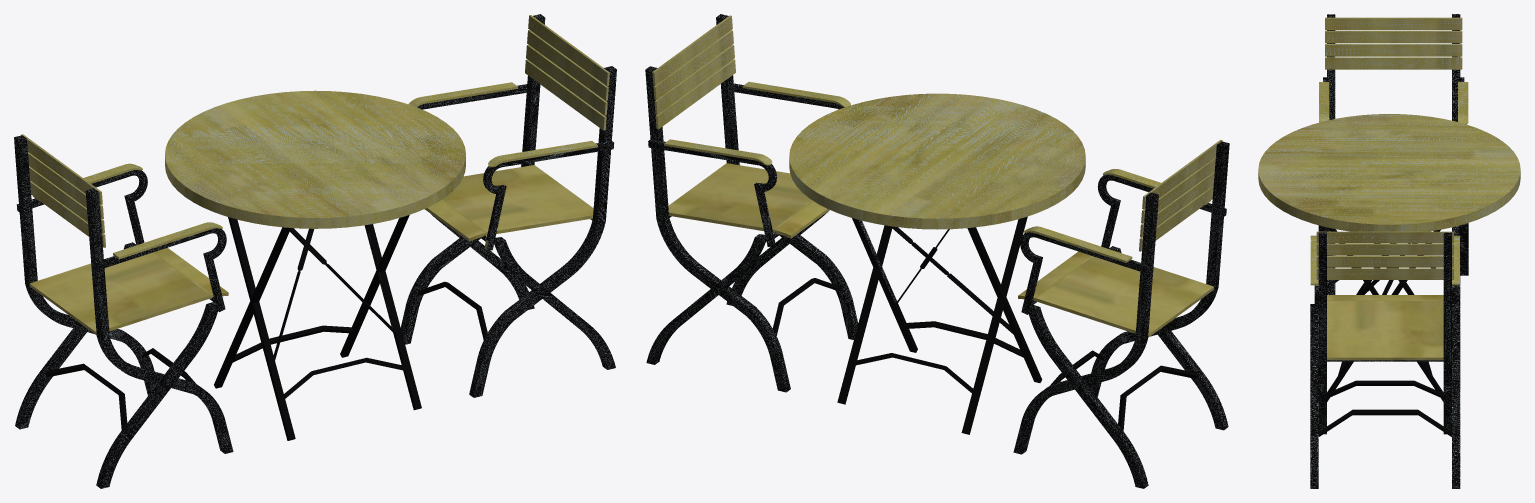
File: CafeSeating.dae
3 renders of one model, left to right at view 1: azimuth 30°, elevation 25°; view 2: azimuth 150°, elevation 25°; view 3: azimuth 270°, elevation 25°, orthographic. The views are drawn at different scales.
Visible parts, largest first — view 1: group_15, group_7 (×2), group_8 (×8), group_6 (×2), group_12 (×2), group_21, group_11 (×2), group_23, group_5 (×2), group_3 (×2), group_9 (×2), group_10 (×2) (+2 smaller); view 2: group_15, group_7 (×2), group_8 (×8), group_12 (×2), group_6 (×2), group_23, group_5 (×2), group_11 (×2), group_21, group_9 (×2), group_3 (×2), group_4 (×2) (+2 smaller); view 3: group_15, group_8 (×8), group_7, group_6 (×2), group_12 (×2), group_5 (×2), group_11, group_13, group_4 (×2), group_10 (×2), group_2, group_23 (+1 smaller).
Boxes of the visible parts, bbox=[...] form: group_15: bbox=[165, 90, 465, 228]; group_7 (×2): bbox=[29, 165, 593, 335]; group_8 (×8): bbox=[21, 15, 609, 247]; group_6 (×2): bbox=[14, 66, 616, 397]; group_12 (×2): bbox=[85, 14, 545, 453]; group_21: bbox=[228, 217, 421, 440]; group_11 (×2): bbox=[96, 214, 534, 488]; group_23: bbox=[214, 215, 409, 388]; group_5 (×2): bbox=[15, 237, 615, 429]; group_3 (×2): bbox=[16, 141, 614, 250]; group_9 (×2): bbox=[95, 84, 527, 311]; group_10 (×2): bbox=[113, 82, 517, 259]; group_15: bbox=[789, 93, 1085, 229]; group_7 (×2): bbox=[668, 163, 1214, 337]; group_8 (×8): bbox=[652, 15, 1222, 251]; group_12 (×2): bbox=[645, 66, 1229, 396]; group_6 (×2): bbox=[716, 14, 1158, 454]; group_23: bbox=[837, 216, 1027, 434]; group_5 (×2): bbox=[726, 211, 1148, 488]; group_11 (×2): bbox=[646, 234, 1228, 430]; group_21: bbox=[852, 218, 1042, 382]; group_9 (×2): bbox=[648, 139, 1226, 248]; group_3 (×2): bbox=[733, 83, 1149, 314]; group_4 (×2): bbox=[742, 82, 1132, 262]; group_15: bbox=[1258, 114, 1520, 231]; group_8 (×8): bbox=[1316, 17, 1462, 279]; group_7: bbox=[1327, 295, 1443, 360]; group_6 (×2): bbox=[1318, 14, 1460, 434]; group_12 (×2): bbox=[1327, 14, 1451, 434]; group_5 (×2): bbox=[1310, 223, 1468, 488]; group_11: bbox=[1452, 304, 1460, 488]; group_13: bbox=[1318, 409, 1451, 436]; group_4 (×2): bbox=[1310, 82, 1468, 285]; group_10 (×2): bbox=[1319, 82, 1459, 285]; group_2: bbox=[1327, 380, 1443, 398]; group_23: bbox=[1328, 227, 1443, 401].
Size of the model in its own units: 63.03 by 31.5 by 33.9.
